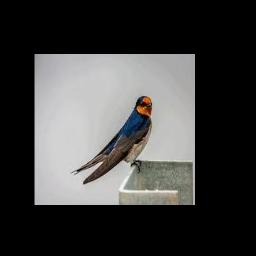Swallow: (70, 96, 152, 184)
